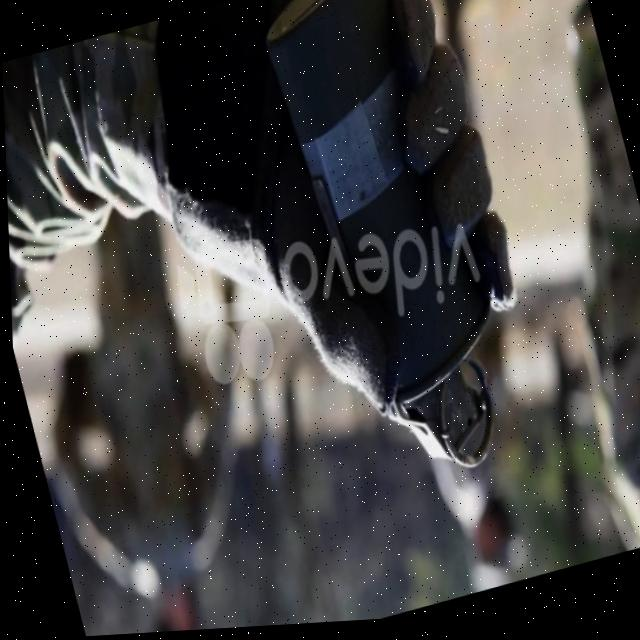grenade: (176, 0, 588, 533)
